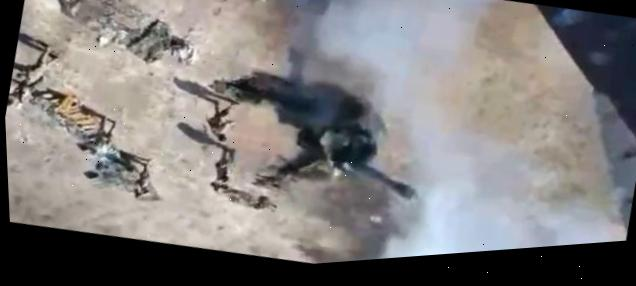person: (10, 36, 61, 90), (201, 95, 241, 144), (86, 112, 120, 159), (128, 154, 157, 201), (208, 143, 237, 186)
sau: (204, 63, 435, 227)
